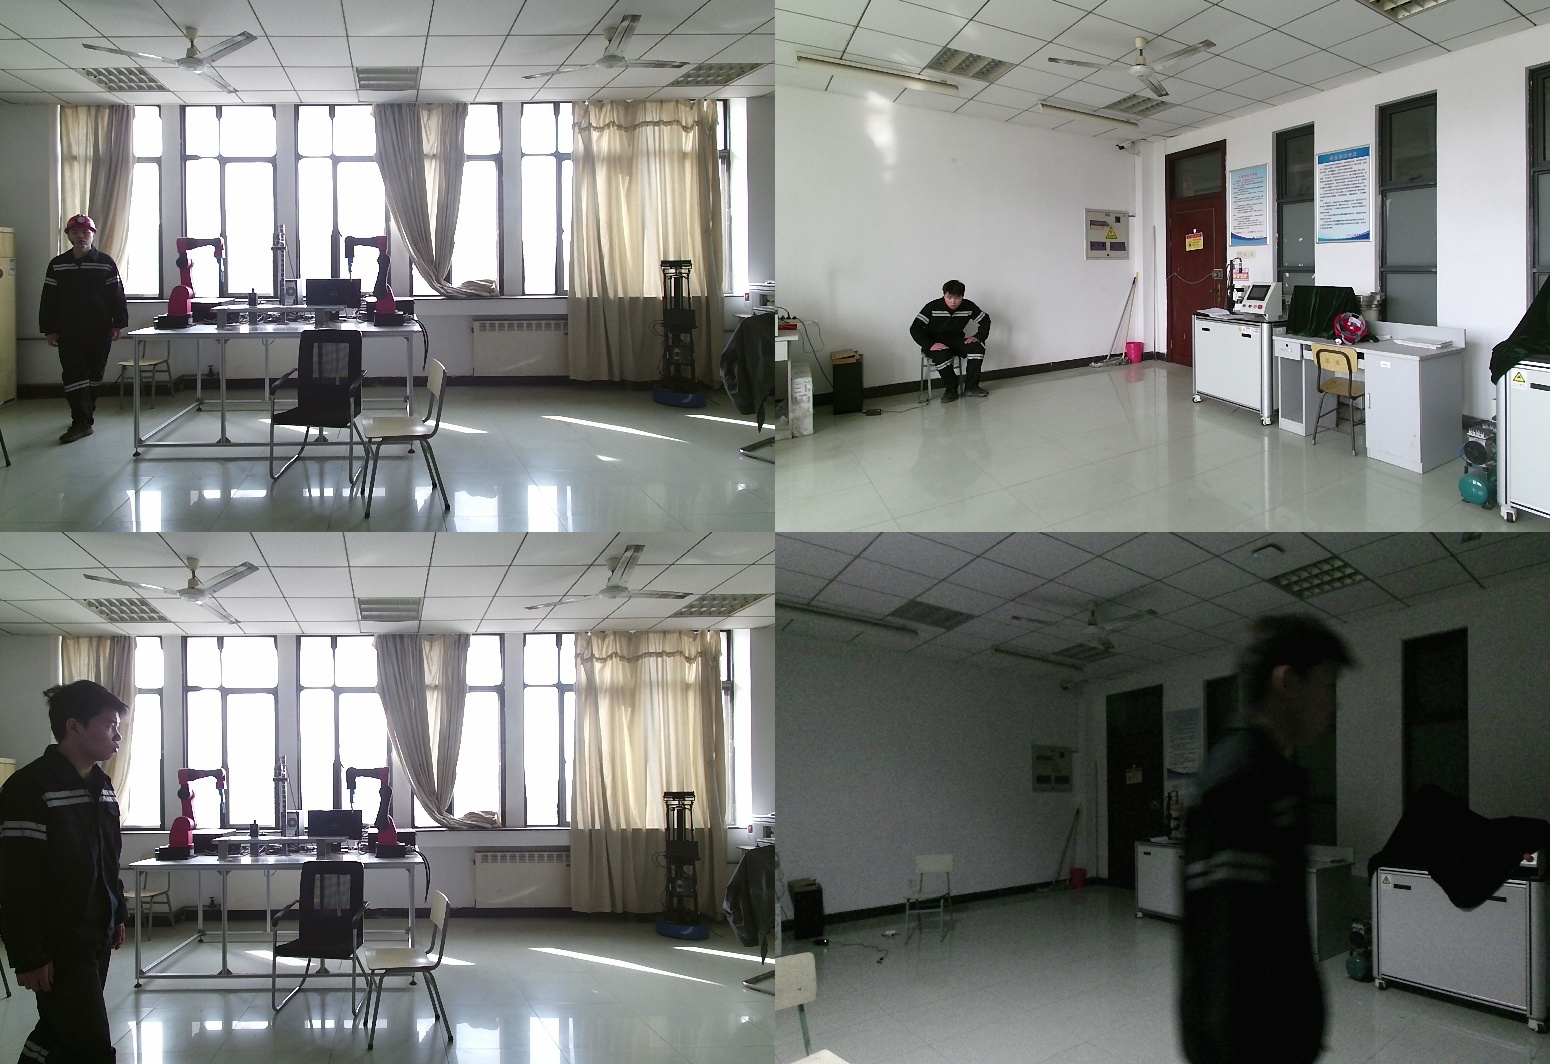person: (1159, 606, 1349, 1064), (1, 684, 133, 1064), (37, 216, 129, 443), (908, 279, 990, 407)
